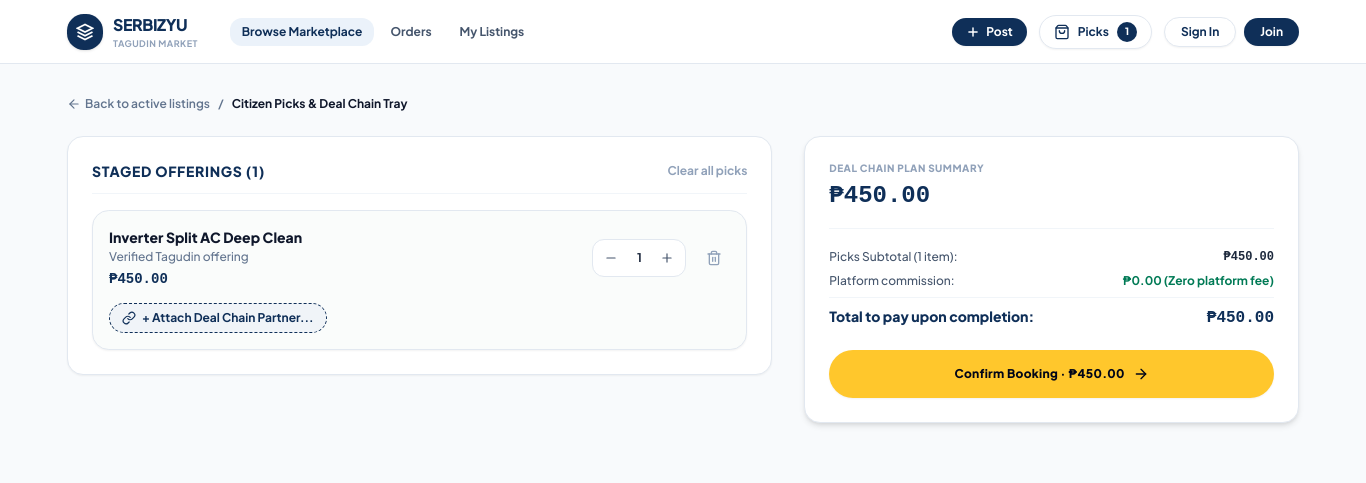
it: Picks Page › removes item from tray and updates empty state
What coordinates should you click on to do the following:
click the button named "Remove item"
I would click on:
 (714, 258)
Its box is [698, 242, 730, 274].
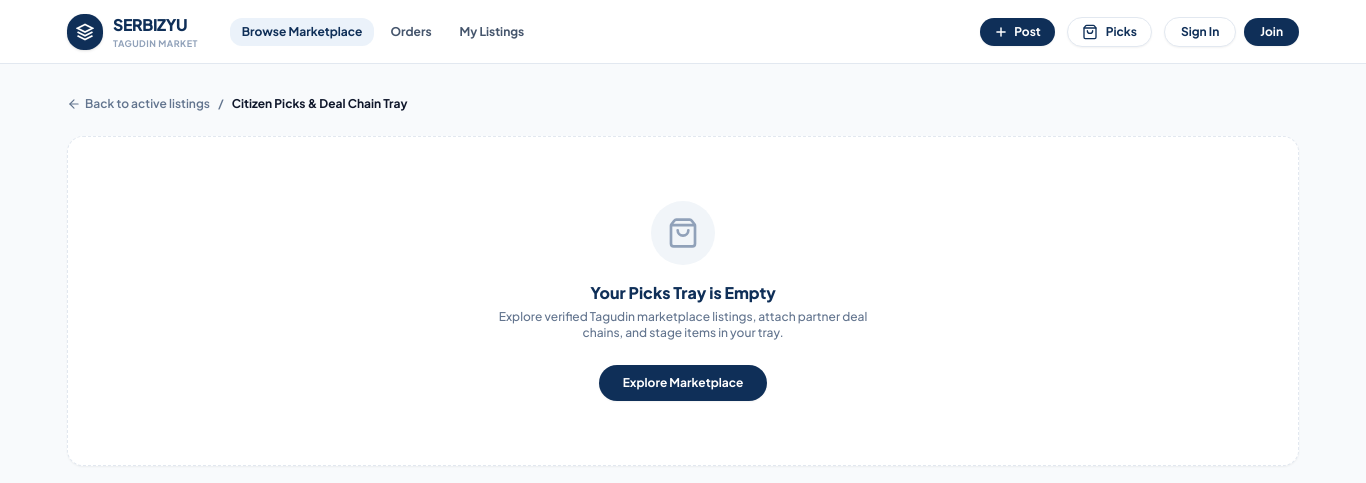
Now the heading "Your Picks Tray is Empty" is shown, box [590, 281, 776, 305]
